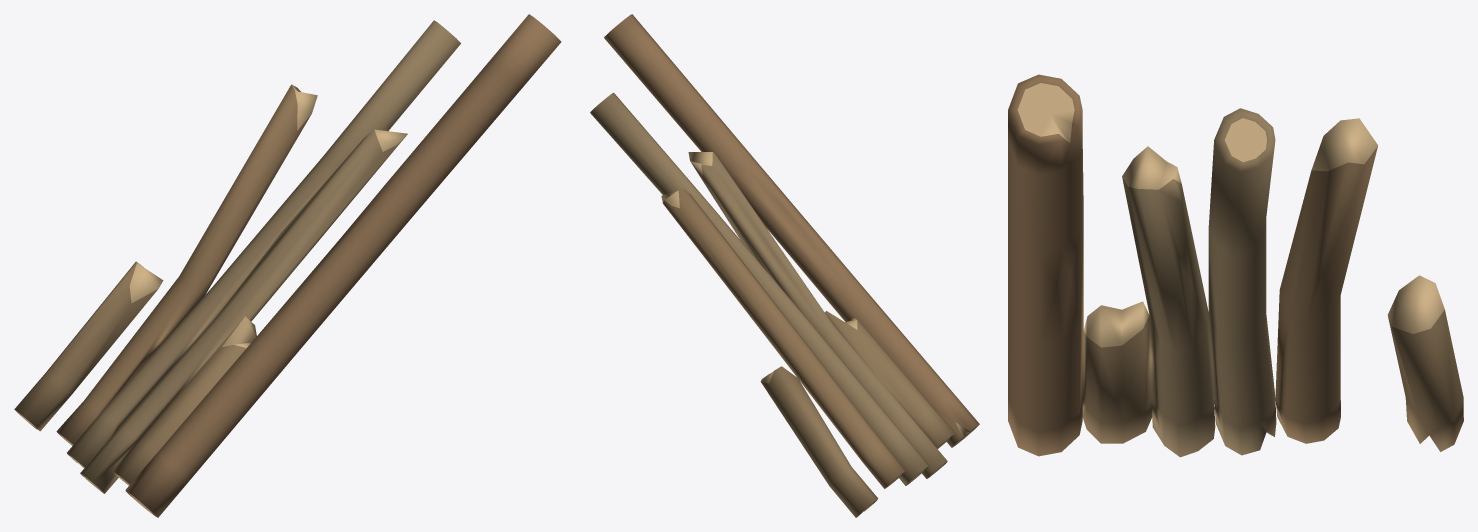
File: rpgpp_av_roof_01_6x3x3_half_c.gltf
3 renders of one model, left to right at view 1: azimuth 30°, elevation 25°; view 2: azimuth 150°, elevation 25°; view 3: azimuth 270°, elevation 25°, orthographic. The views are drawn at different scales.
Parts seen in each view (by area): view 1: rpgpp_av_roof_01_6x3x3_half_c; view 2: rpgpp_av_roof_01_6x3x3_half_c; view 3: rpgpp_av_roof_01_6x3x3_half_c.
Boxes of the visible parts, x1,y1,x2,y2 form: rpgpp_av_roof_01_6x3x3_half_c: [14, 14, 561, 517]; rpgpp_av_roof_01_6x3x3_half_c: [590, 14, 979, 517]; rpgpp_av_roof_01_6x3x3_half_c: [1008, 74, 1463, 457].
Bounding box in the file's own units: 0.0489 × 0.0443 × 0.0258.
Materials: 1 (1 with a texture image).
